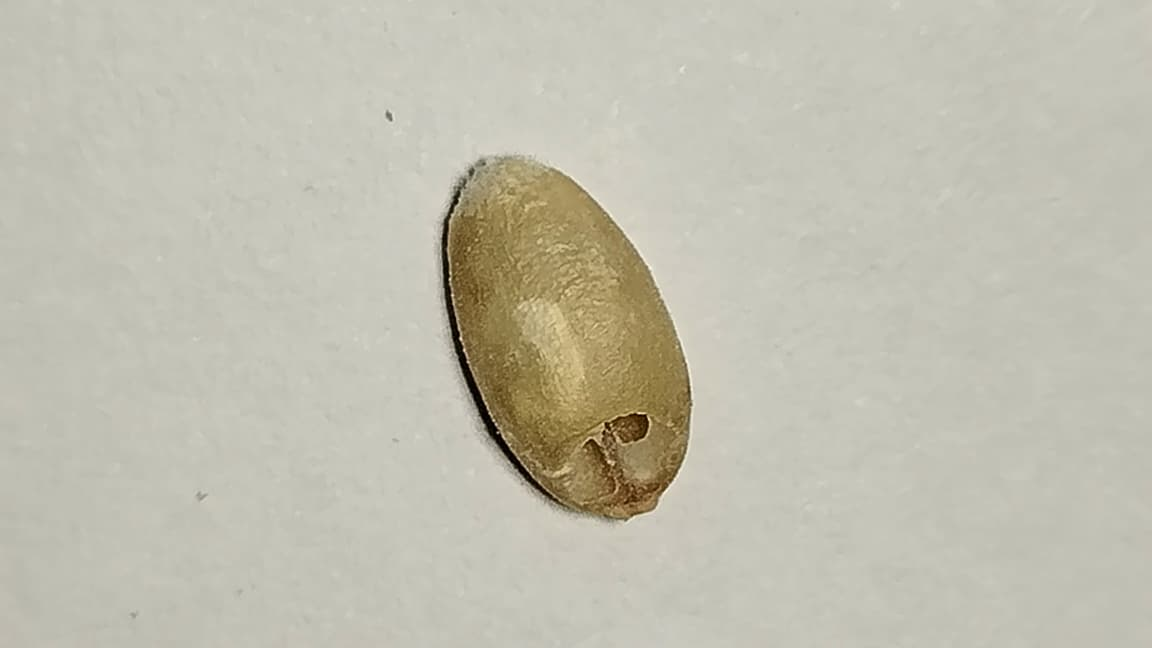damage: (445, 159, 690, 499)
insectdamage: (551, 407, 669, 517)
